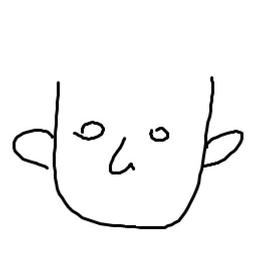ear: (5, 124, 58, 171), (202, 128, 246, 171)
empty_eye: (74, 118, 110, 143), (145, 123, 172, 145)
nose: (107, 136, 139, 176)
